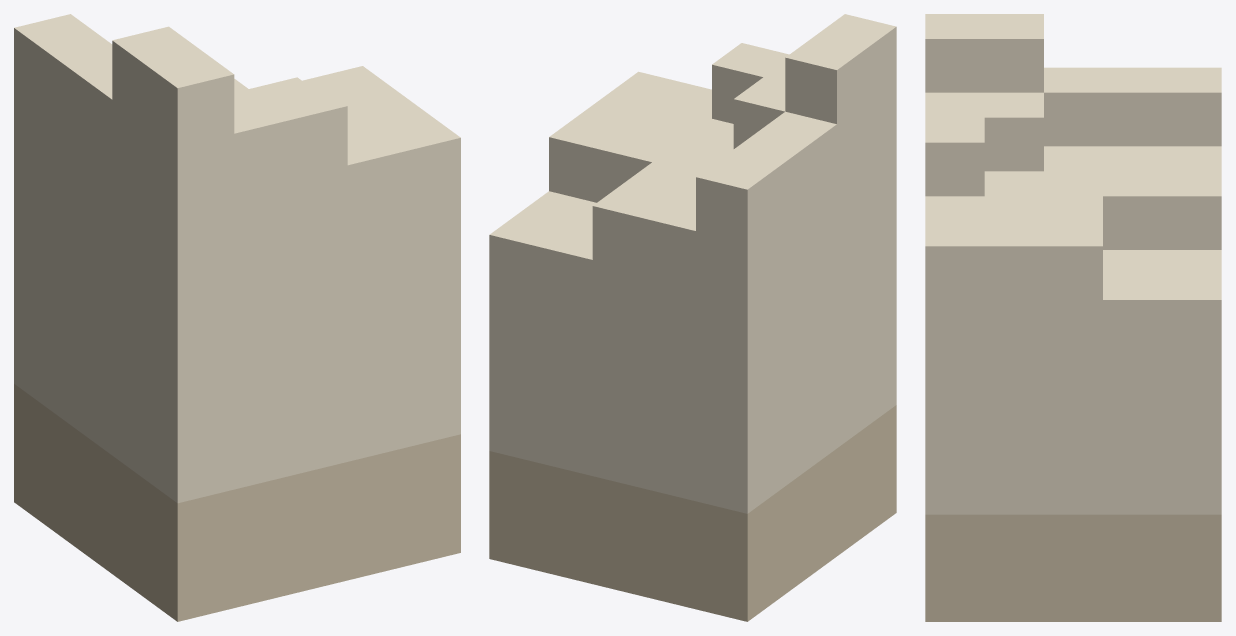
The model's file is polar_bear__leg_fr.glb.
3 renders of one model, left to right at view 1: azimuth 30°, elevation 25°; view 2: azimuth 150°, elevation 25°; view 3: azimuth 270°, elevation 25°, orthographic. The views are drawn at different scales.
Visible parts, largest first — view 1: polar_bear__leg_fr; view 2: polar_bear__leg_fr; view 3: polar_bear__leg_fr.
Boxes of the visible parts, bbox=[...] form: polar_bear__leg_fr: bbox=[14, 14, 460, 621]; polar_bear__leg_fr: bbox=[489, 14, 896, 621]; polar_bear__leg_fr: bbox=[925, 14, 1221, 621].
Bounding box in the file's own units: 0.5 × 0.9 × 0.5.
1 material, 1 textured.
